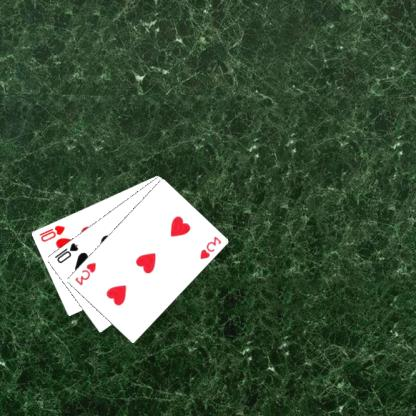10H: (38, 222, 68, 243)
10S: (53, 240, 81, 265)
3H: (199, 233, 224, 260), (74, 260, 98, 287)
